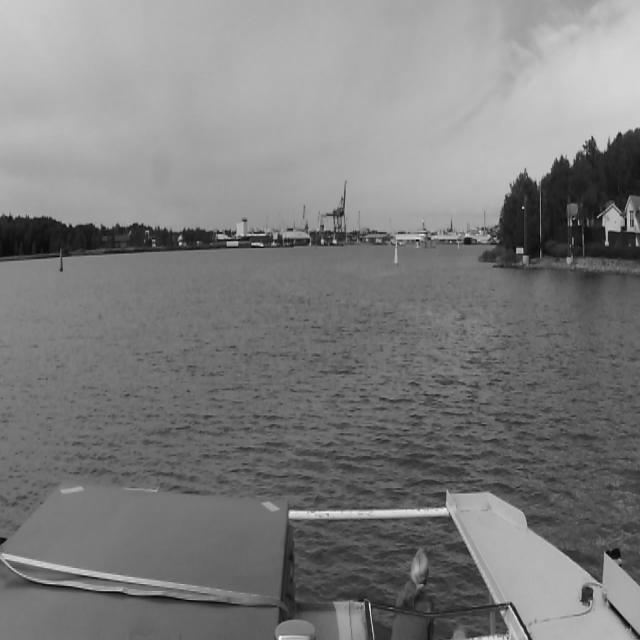buoy: (393, 241, 399, 266), (58, 248, 64, 272), (457, 241, 459, 250)
ship: (415, 228, 437, 250)
